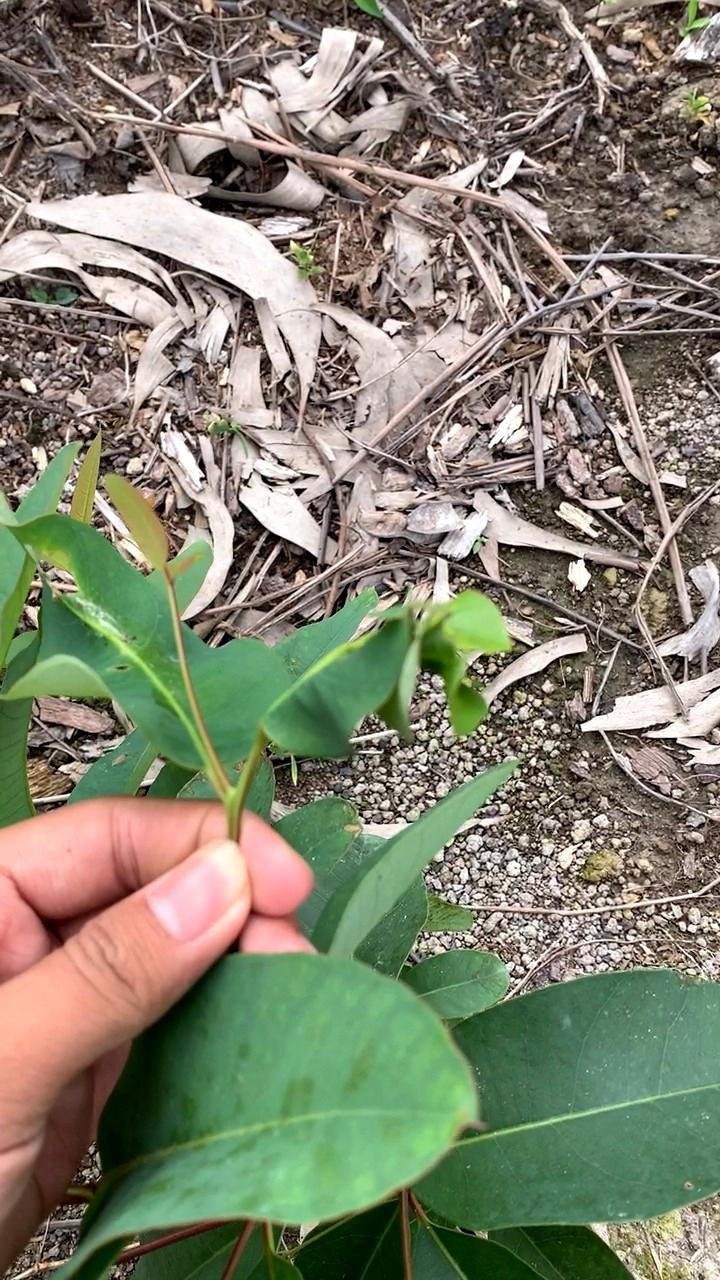Leaf Roller - Leaf: (253, 596, 515, 767)
